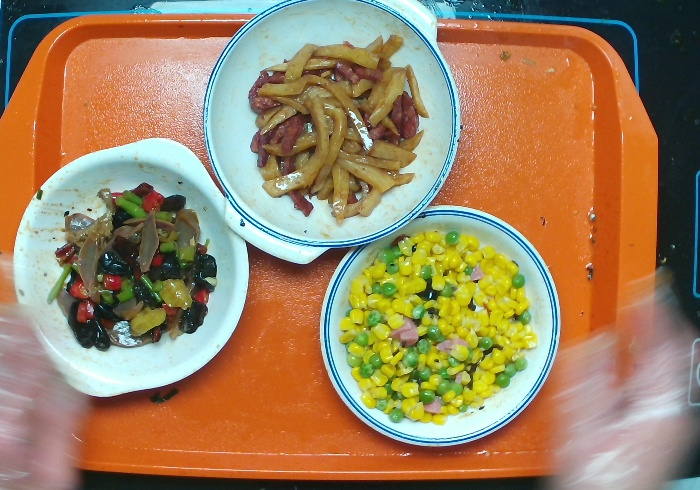HZYJPL-Dai_Er_Bai_Yuan_Wan: (9, 134, 254, 402)
HZYJPL-Lan_Bian_Dai_Er_Wan: (199, 1, 465, 268)
HZYJPL-Lan_Bian_Yuan_Die: (315, 201, 565, 450)
